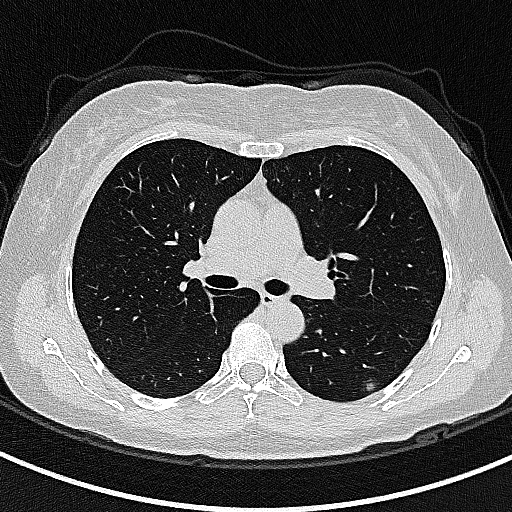nodule: (365, 382, 374, 390)
